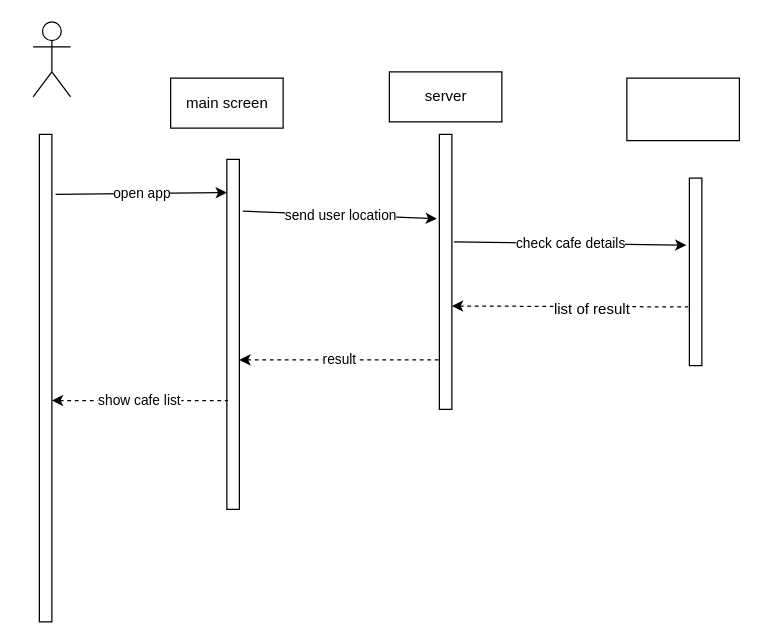
Some shapes in this 761 by 644 pixel diagram are drawn without their labels. Each missing label, with the centre of its shape:
"customer" belongs at [51,59].
"DB:cafe table" belongs at [682,109].
